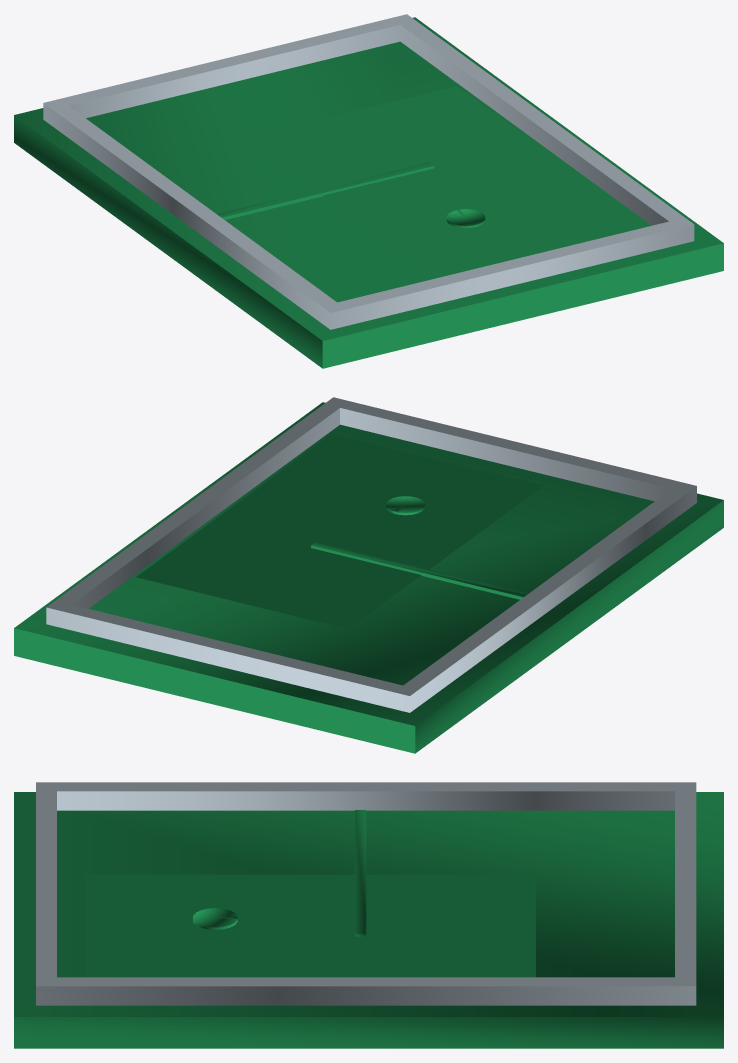
Rendered from Level32.fbx.
The picture shows the model from 3 angles, top to bottom: view 1: azimuth 30°, elevation 25°; view 2: azimuth 150°, elevation 25°; view 3: azimuth 270°, elevation 25°; orthographic projection. The views are drawn at different scales.
Visible parts, largest first — view 1: Box002, Rectangle0; view 2: Box002, Rectangle0; view 3: Box002, Rectangle0.
Part boxes in pixels (x1,y1,x2,y2): Box002: [14, 17, 723, 368]; Rectangle0: [43, 14, 694, 329]; Box002: [14, 402, 723, 753]; Rectangle0: [46, 397, 696, 712]; Box002: [14, 792, 723, 1048]; Rectangle0: [36, 782, 696, 1005].
Bounding box in the file's own units: 135 × 14.27 × 180.
